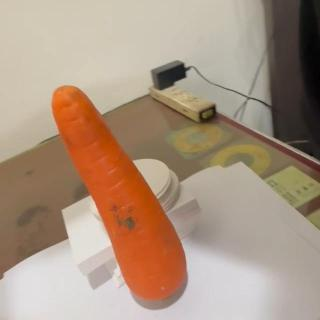carrot: (52, 84, 186, 304)
